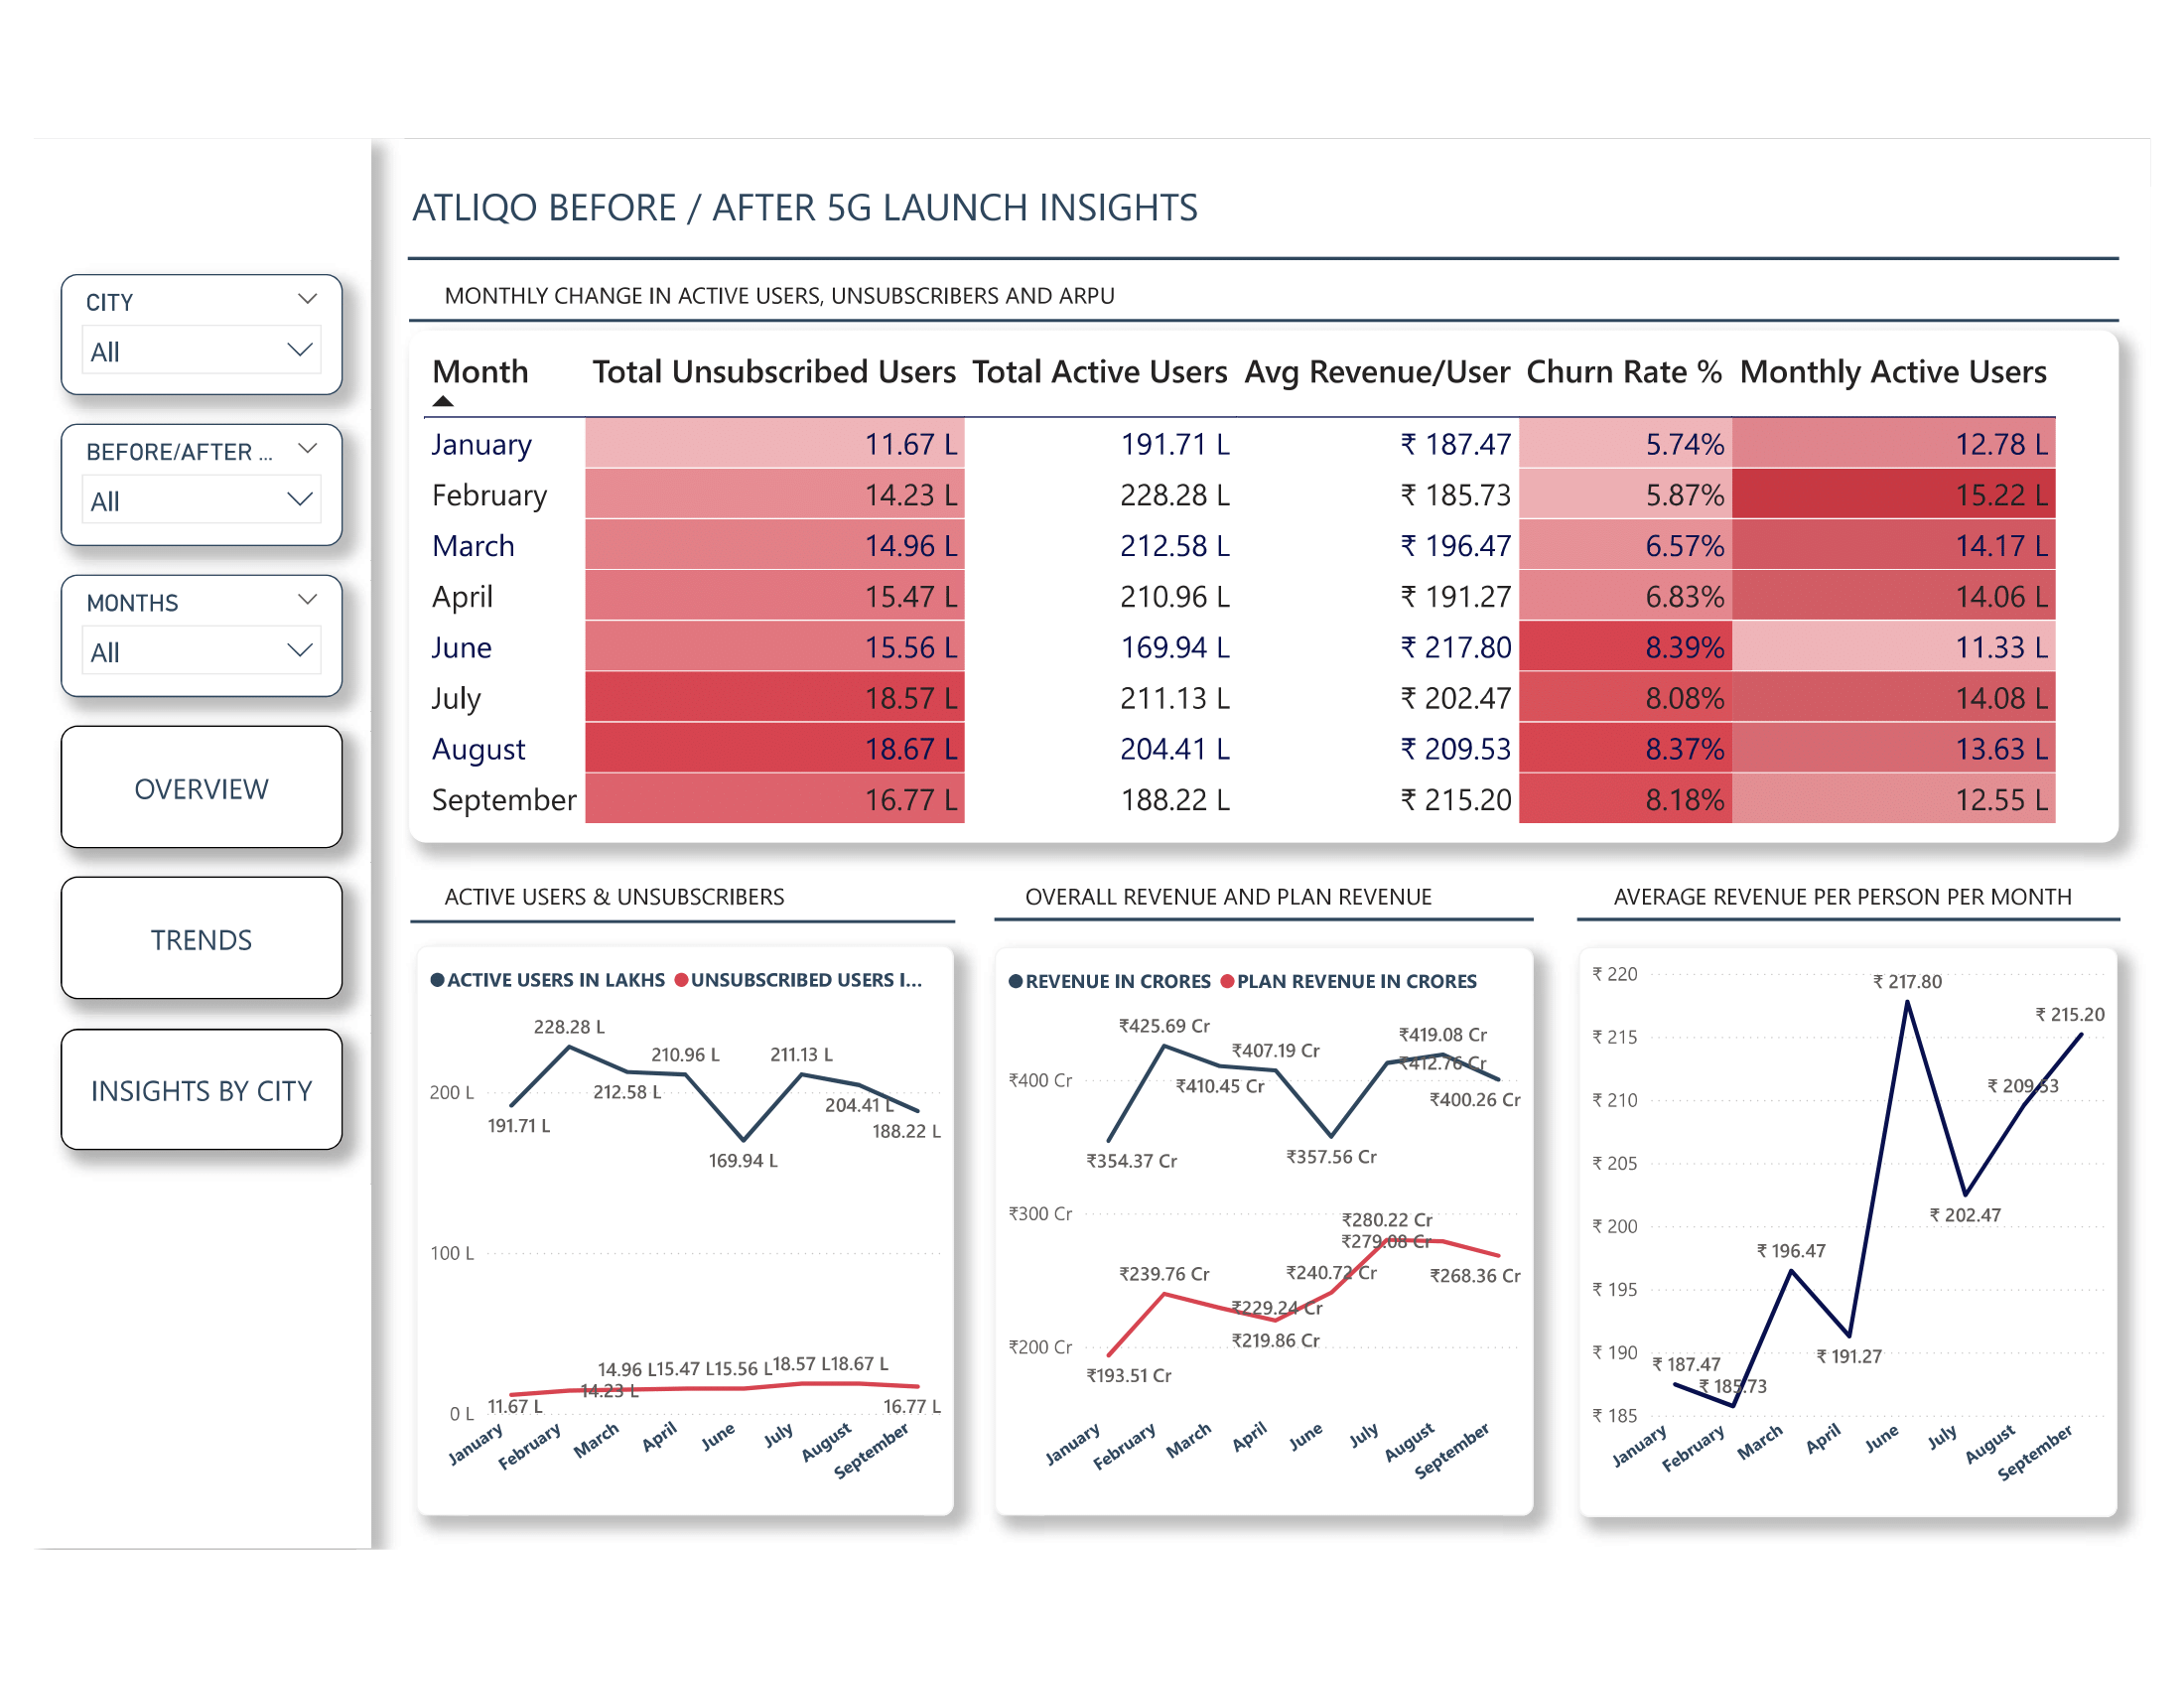

The page's visual inventory and layout, read from the dashboard file:
{"tool":"powerbi","page":{"name":"MONTHLY TRENDS","canvas":[1500,1000],"ordinal":1},"visuals":[{"type":"shape","box":[0,0,238.8,998.8],"z":0},{"type":"slicer","fields":{"Values":["dim_cities.city_name"]},"box":[18.9,95.7,200.6,86.5],"z":1000},{"type":"slicer","fields":{"Values":["dim_date.before/after_5g"]},"box":[18.9,202.5,200.6,86.5],"z":2000},{"type":"slicer","fields":{"Values":["dim_date.date.Variation.Date Hierarchy.Month"]},"box":[19,309.2,200.4,86.6],"z":3000},{"type":"shape","box":[19.3,416.1,199.7,86.9],"z":4000},{"type":"shape","box":[19.3,523.4,199.7,86.9],"z":5000},{"type":"shape","box":[19.3,630.6,199.7,86.9],"z":6000},{"type":"textbox","box":[263.2,23.8,631.8,47.6],"z":7000},{"type":"shape","box":[264.9,73,1212.6,23.8],"z":8000},{"type":"tableEx","fields":{"Values":["dim_date.date.Variation.Date Hierarchy.Month","Key Measures.Total Unsubscribed Users","Key Measures.Total Active Users","Key Measures.ARPU","Key Measures.Churn Rate %","Key Measures.Monthly Active Users"]},"box":[265.8,135.7,1211.8,363],"z":9000},{"type":"textbox","box":[286,95.3,550,40.3],"z":10000},{"type":"shape","box":[265.8,119.2,1211.8,20.2],"z":11000},{"type":"lineChart","fields":{"Category":["dim_date.date.Variation.Date Hierarchy.Month"],"Y":["Sum(fact_atliqo_metrics.active_users_lakhs)","Sum(fact_atliqo_metrics.unsubscribed_users_lakhs)"]},"box":[270.8,571.9,380.8,404],"z":12000},{"type":"lineChart","fields":{"Category":["dim_date.date.Variation.Date Hierarchy.Month"],"Y":["Sum(fact_atliqo_metrics.atliqo_revenue_crores)","Sum(fact_plan_revenue.plan_revenue_crores)"]},"box":[680.7,572.6,381.8,403.7],"z":13000},{"type":"shape","box":[267.1,537.1,385.7,35.7],"z":14000},{"type":"shape","box":[681.4,535.7,381.4,35.7],"z":15000},{"type":"textbox","box":[286,520.7,293.3,38.5],"z":16000},{"type":"textbox","box":[698.5,520.7,320.8,36.7],"z":17000},{"type":"lineChart","fields":{"Category":["dim_date.date.Variation.Date Hierarchy.Month","dim_date.month_name"],"Y":["Key Measures.ARPU"]},"box":[1094.6,573.4,382.2,404],"z":18000},{"type":"shape","box":[1094.3,535.7,384.3,35.7],"z":19000},{"type":"textbox","box":[1114.7,520.7,350.2,33],"z":20000},{"type":"shape","box":[239.5,0,1243.2,985.1],"z":21000}]}

Visuals, with their boxes on the page's 1500x1000 design canvas (x1, y1, x2, y2). These are canvas units, not pixel positions in the 2184x1688 screenshot, which may show the page scaled, cropped or inside an application window:
shape: 0/0/239/999
slicer - dim_cities.city_name: 19/96/220/182
slicer - dim_date.before/after_5g: 19/202/220/289
slicer - dim_date.date.Variation.Date Hierarchy.Month: 19/309/219/396
shape: 19/416/219/503
shape: 19/523/219/610
shape: 19/631/219/718
textbox: 263/24/895/71
shape: 265/73/1478/97
tableEx - dim_date.date.Variation.Date Hierarchy.Month x Key Measures.Total Unsubscribed Users: 266/136/1478/499
textbox: 286/95/836/136
shape: 266/119/1478/139
lineChart - dim_date.date.Variation.Date Hierarchy.Month x Sum(fact_atliqo_metrics.active_users_lakhs): 271/572/652/976
lineChart - dim_date.date.Variation.Date Hierarchy.Month x Sum(fact_atliqo_metrics.atliqo_revenue_crores): 681/573/1062/976
shape: 267/537/653/573
shape: 681/536/1063/571
textbox: 286/521/579/559
textbox: 698/521/1019/557
lineChart - dim_date.date.Variation.Date Hierarchy.Month x dim_date.month_name: 1095/573/1477/977
shape: 1094/536/1479/571
textbox: 1115/521/1465/554
shape: 240/0/1483/985
